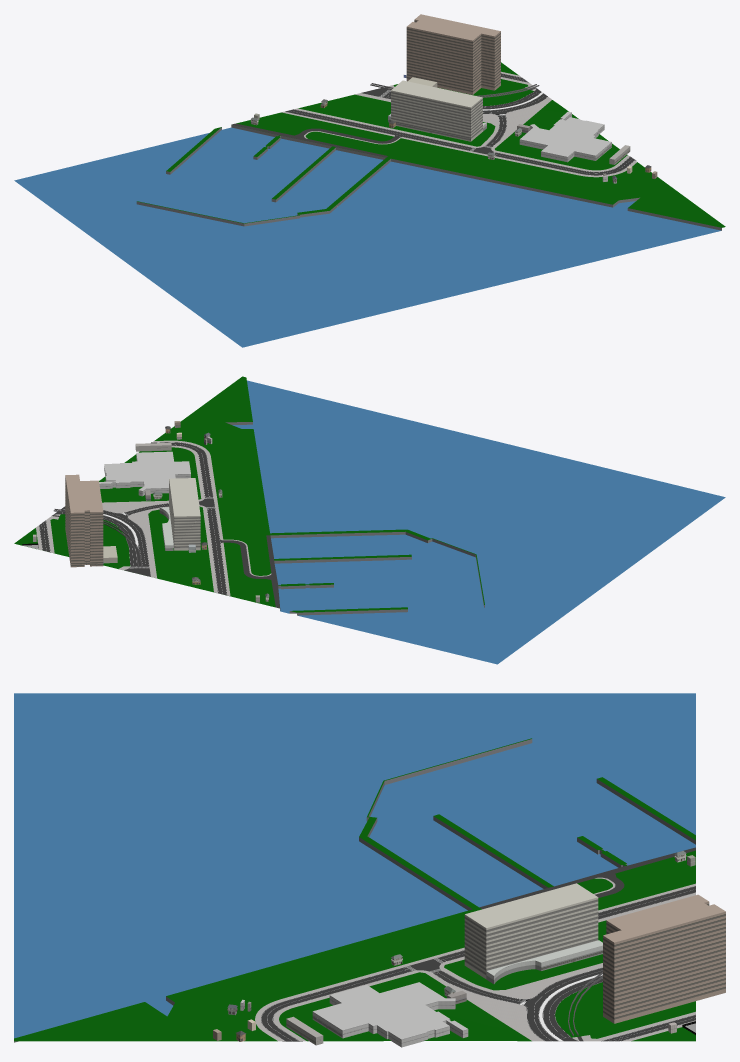
3 views of the same model, one above another, from view 1: azimuth 30°, elevation 25°; view 2: azimuth 150°, elevation 25°; view 3: azimuth 270°, elevation 25° (orthographic). The views are drawn at different scales.
Visible parts, largest first — view 1: 005339_06884_water, 005339_06884_ground, 005339_06884_66000G_-9880101_build10Fover, 005339_06884_61000G_-9840301_buildtarget, 005339_06884_road, 005339_06884_walk, 005339_06884_64000G_-9805401_build5Funder; view 2: 005339_06884_water, 005339_06884_ground, 005339_06884_road, 005339_06884_66000G_-9880101_build10Fover, 005339_06884_walk, 005339_06884_64000G_-9805401_build5Funder, 005339_06884_61000G_-9840301_buildtarget; view 3: 005339_06884_water, 005339_06884_ground, 005339_06884_66000G_-9880101_build10Fover, 005339_06884_61000G_-9840301_buildtarget, 005339_06884_road, 005339_06884_64000G_-9805401_build5Funder, 005339_06884_walk, 005339_06884_61000G_-9840401_buildtarget.
Part boxes in pixels (x1=…): 005339_06884_water: x1=14, y1=124, x2=721, y2=347; 005339_06884_ground: x1=137, y1=62, x2=725, y2=227; 005339_06884_66000G_-9880101_build10Fover: x1=403, y1=14, x2=500, y2=94; 005339_06884_61000G_-9840301_buildtarget: x1=391, y1=80, x2=482, y2=141; 005339_06884_road: x1=232, y1=73, x2=636, y2=177; 005339_06884_walk: x1=281, y1=71, x2=636, y2=177; 005339_06884_64000G_-9805401_build5Funder: x1=519, y1=111, x2=611, y2=162; 005339_06884_water: x1=225, y1=380, x2=725, y2=664; 005339_06884_ground: x1=14, y1=376, x2=484, y2=612; 005339_06884_road: x1=39, y1=442, x2=280, y2=608; 005339_06884_66000G_-9880101_build10Fover: x1=65, y1=474, x2=103, y2=567; 005339_06884_walk: x1=36, y1=440, x2=271, y2=596; 005339_06884_64000G_-9805401_build5Funder: x1=99, y1=451, x2=190, y2=496; 005339_06884_61000G_-9840301_buildtarget: x1=169, y1=478, x2=200, y2=550; 005339_06884_water: x1=14, y1=693, x2=695, y2=1042; 005339_06884_ground: x1=14, y1=738, x2=695, y2=1041; 005339_06884_66000G_-9880101_build10Fover: x1=603, y1=894, x2=725, y2=1023; 005339_06884_61000G_-9840301_buildtarget: x1=464, y1=883, x2=598, y2=978; 005339_06884_road: x1=261, y1=847, x2=695, y2=1041; 005339_06884_64000G_-9805401_build5Funder: x1=312, y1=982, x2=468, y2=1047; 005339_06884_walk: x1=255, y1=877, x2=695, y2=1041; 005339_06884_61000G_-9840401_buildtarget: x1=486, y1=940, x2=602, y2=984.
Size of the model in its own units: 699 by 77.81 by 587.
7 materials, 7 textured.
